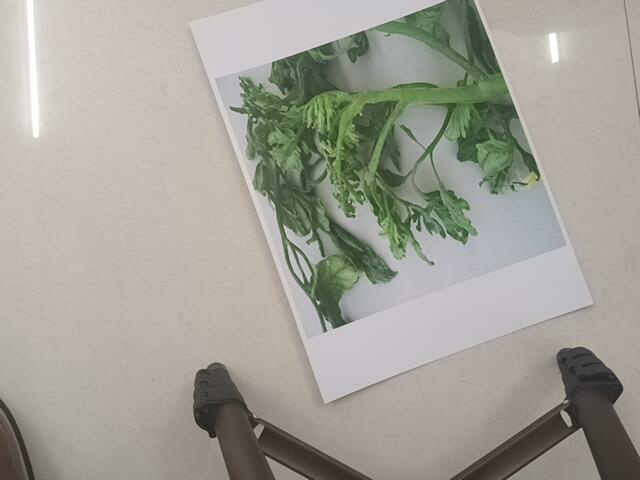Tomamto_Mosaic_virus: (224, 66, 571, 285)
